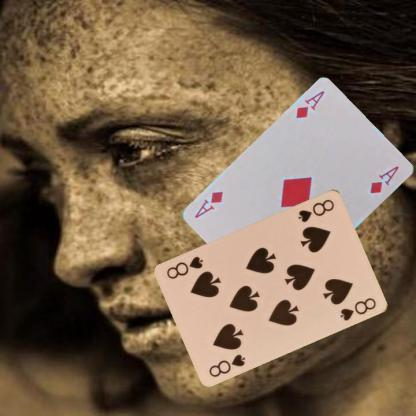8s: (206, 351, 247, 378), (296, 196, 336, 223)
Ad: (293, 88, 326, 121)
